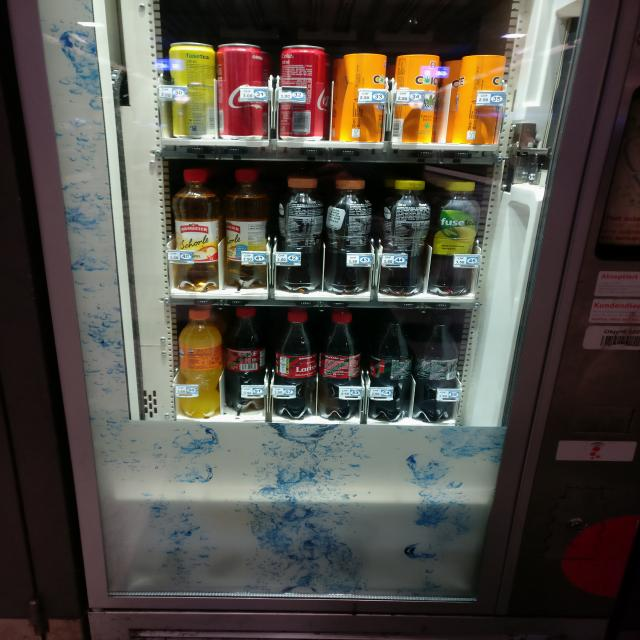c-swiss_dosenabisicetea__33__9120025930135: (391, 51, 444, 144), (458, 52, 503, 146), (342, 50, 384, 146)
coke__dose_33__54491472: (275, 41, 329, 141), (215, 41, 266, 140)
coke__flasche_50__54491472: (222, 306, 271, 413), (270, 310, 318, 419), (317, 311, 365, 420)
coke_zero_flasche_50__5449000131836: (364, 310, 415, 419), (415, 312, 459, 421)
fanta___50__40822938: (176, 307, 224, 415)
fuse_lemon__50__5449000235947: (381, 177, 429, 294), (432, 179, 480, 295)
fuse_lemon_dose_33__5449000235947: (170, 39, 217, 137)
fuse_peach__50__5449000236623: (275, 172, 326, 292), (325, 174, 374, 293)
ramseier_schorle__50__7610057012456: (168, 166, 226, 291), (222, 168, 277, 292)
